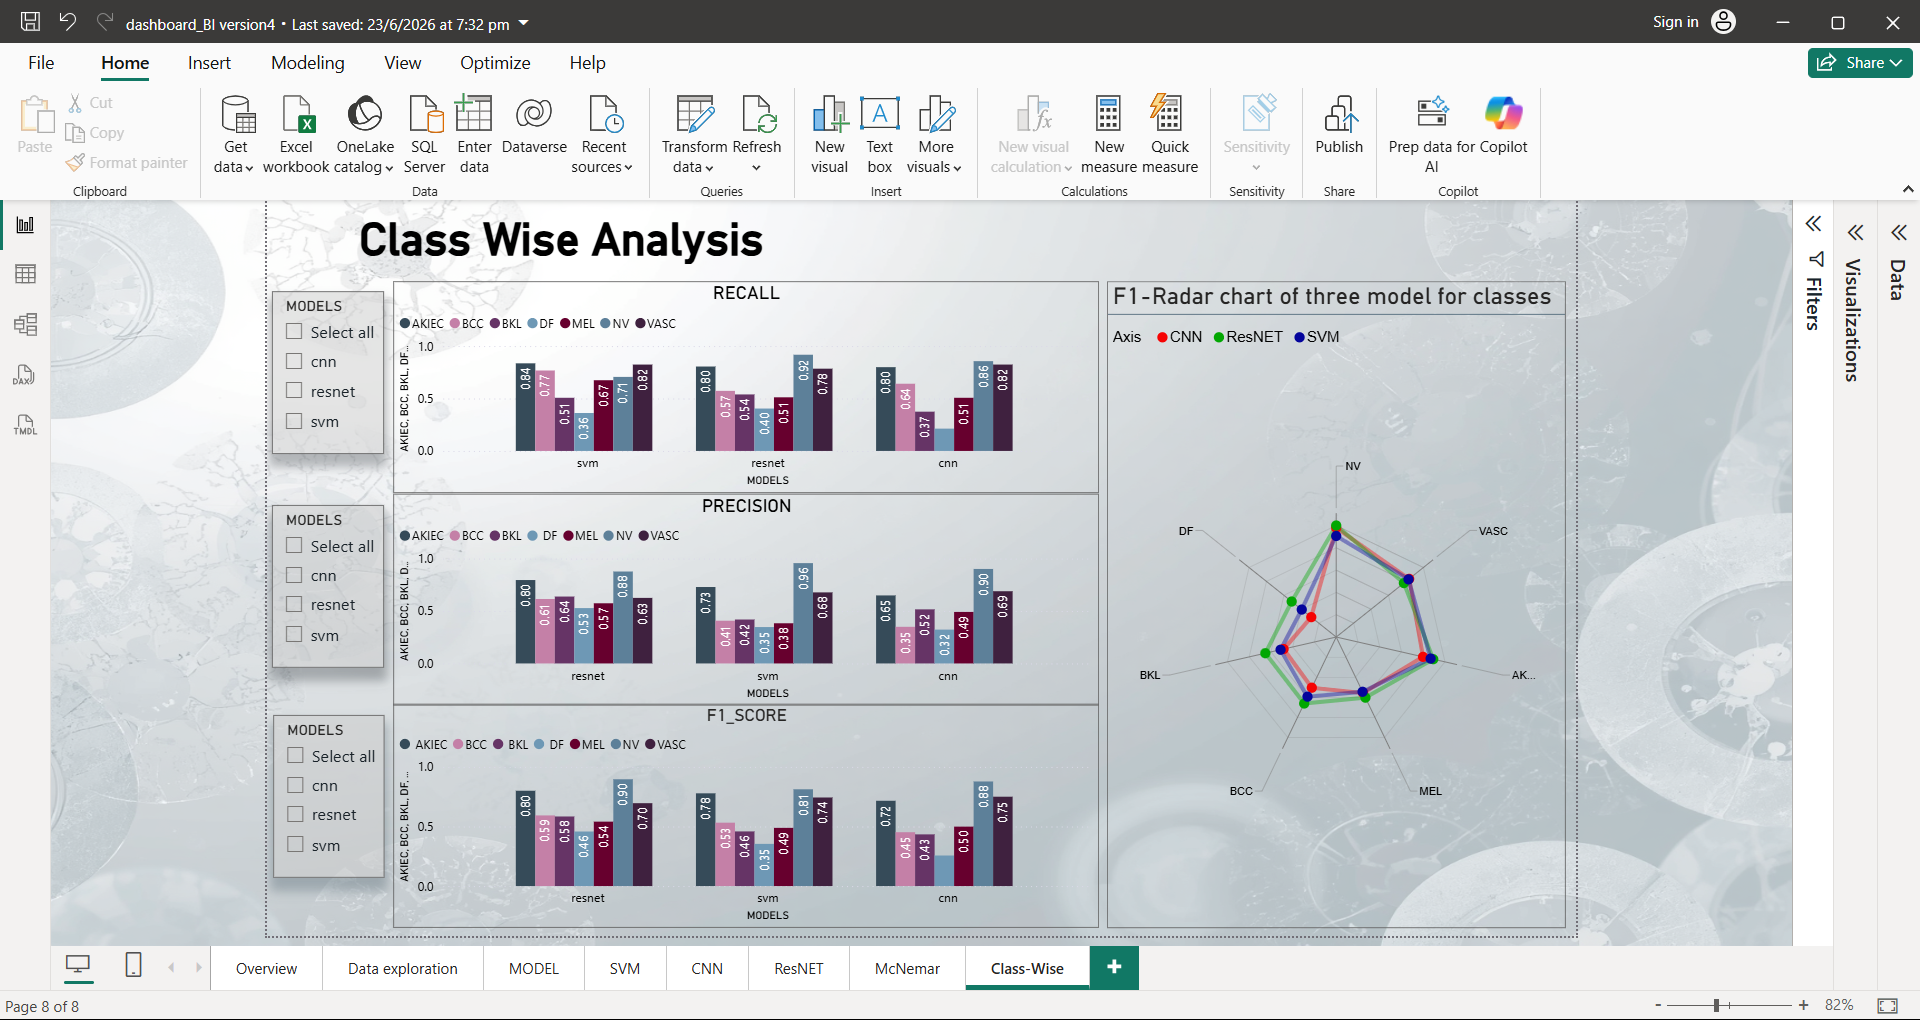

This screenshot's page, from the dashboard's own definition file:
{"tool":"powerbi","page":{"name":"Class-Wise","canvas":[1280,720],"ordinal":6},"visuals":[{"type":"clusteredColumnChart","title":"RECALL","fields":{"Category":["combined_Recall.Attribute"],"Y":["Sum(combined_Recall.AKIEC)","Sum(combined_Recall.BCC)","Sum(combined_Recall.BKL)","Sum(combined_Recall.DF)","Sum(combined_Recall.MEL)","Sum(combined_Recall.NV)","Sum(combined_Recall.VASC)"]},"box":[123.5,79.6,690.2,207.2],"z":0},{"type":"clusteredColumnChart","title":"PRECISION","fields":{"Category":["combined_Precision.Attribute"],"Y":["Sum(combined_Precision.AKIEC)","Sum(combined_Precision.BCC)","Sum(combined_Precision.BKL)","Sum(combined_Precision.DF)","Sum(combined_Precision.MEL)","Sum(combined_Precision.NV)","Sum(combined_Precision.VASC)"]},"box":[123.5,286.8,690.2,207.2],"z":1000},{"type":"clusteredColumnChart","title":"F1_SCORE","fields":{"Category":["combined_F1-Score.Attribute"],"Y":["Sum(combined_F1-Score.AKIEC)","Sum(combined_F1-Score.BCC)","Sum(combined_F1-Score.BKL)","Sum(combined_F1-Score.DF)","Sum(combined_F1-Score.MEL)","Sum(combined_F1-Score.NV)","Sum(combined_F1-Score.VASC)"]},"box":[123.5,492.6,690.2,219.6],"z":2000},{"type":"slicer","fields":{"Values":["combined_F1-Score.Attribute"]},"box":[6.1,503.8,108.8,159],"z":3000},{"type":"slicer","fields":{"Values":["combined_Precision.Attribute"]},"box":[5.5,297.8,109.8,159.2],"z":4000},{"type":"slicer","fields":{"Values":["combined_Recall.Attribute"]},"box":[5.5,89.2,109.8,159.2],"z":5000},{"type":"RadarChart1446119667547","title":"F1-Radar chart of three model for classes","fields":{"Category":["combined_classification_metrics.Class"],"Y":["Sum(combined_classification_metrics.cnn_f1)","Sum(combined_classification_metrics.resnet_f1)","Sum(combined_classification_metrics.svm_f1)"]},"box":[822,79.6,448.7,632.6],"z":6000},{"type":"textbox","title":"Class Wise Analysis","box":[85.6,12.2,553.9,57.5],"z":7000}]}

Visuals, with their boxes on the page's 1280x720 design canvas (x1, y1, x2, y2). These are canvas units, not pixel positions in the 1920x1020 screenshot, which may show the page scaled, cropped or inside an application window:
"RECALL" clusteredColumnChart: (left=124, top=80, right=814, bottom=287)
"PRECISION" clusteredColumnChart: (left=124, top=287, right=814, bottom=494)
"F1_SCORE" clusteredColumnChart: (left=124, top=493, right=814, bottom=712)
slicer - combined_F1-Score.Attribute: (left=6, top=504, right=115, bottom=663)
slicer - combined_Precision.Attribute: (left=6, top=298, right=115, bottom=457)
slicer - combined_Recall.Attribute: (left=6, top=89, right=115, bottom=248)
"F1-Radar chart of three model for classes" RadarChart1446119667547: (left=822, top=80, right=1271, bottom=712)
"Class Wise Analysis" textbox: (left=86, top=12, right=640, bottom=70)
